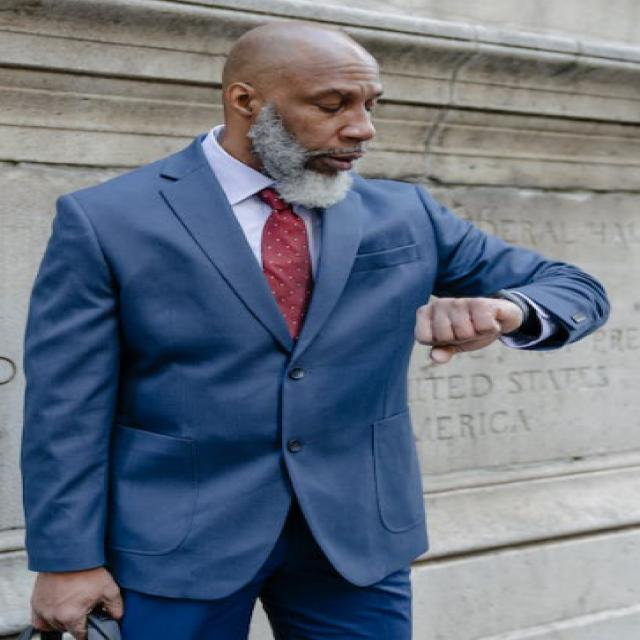Watch: (491, 282, 538, 322)
